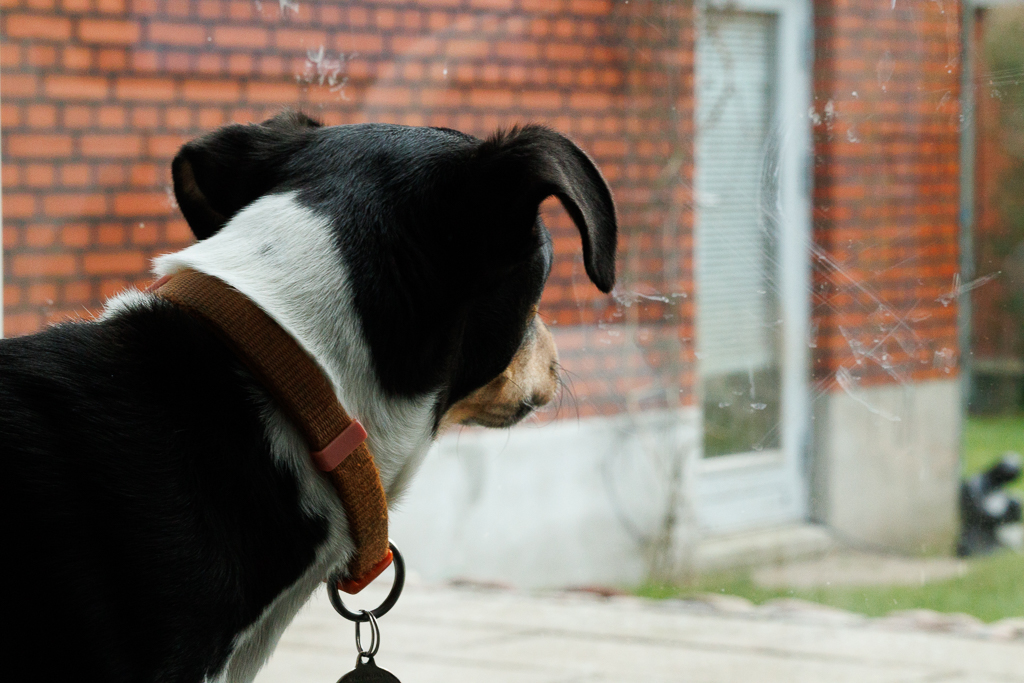Dog: (0, 99, 627, 683)
Humanoid: (945, 445, 1024, 563)
